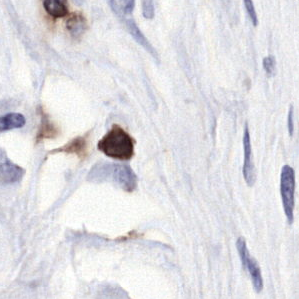Lymphocyte: (98, 127, 137, 161)
